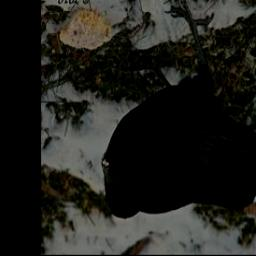Crow: (101, 1, 256, 220)
